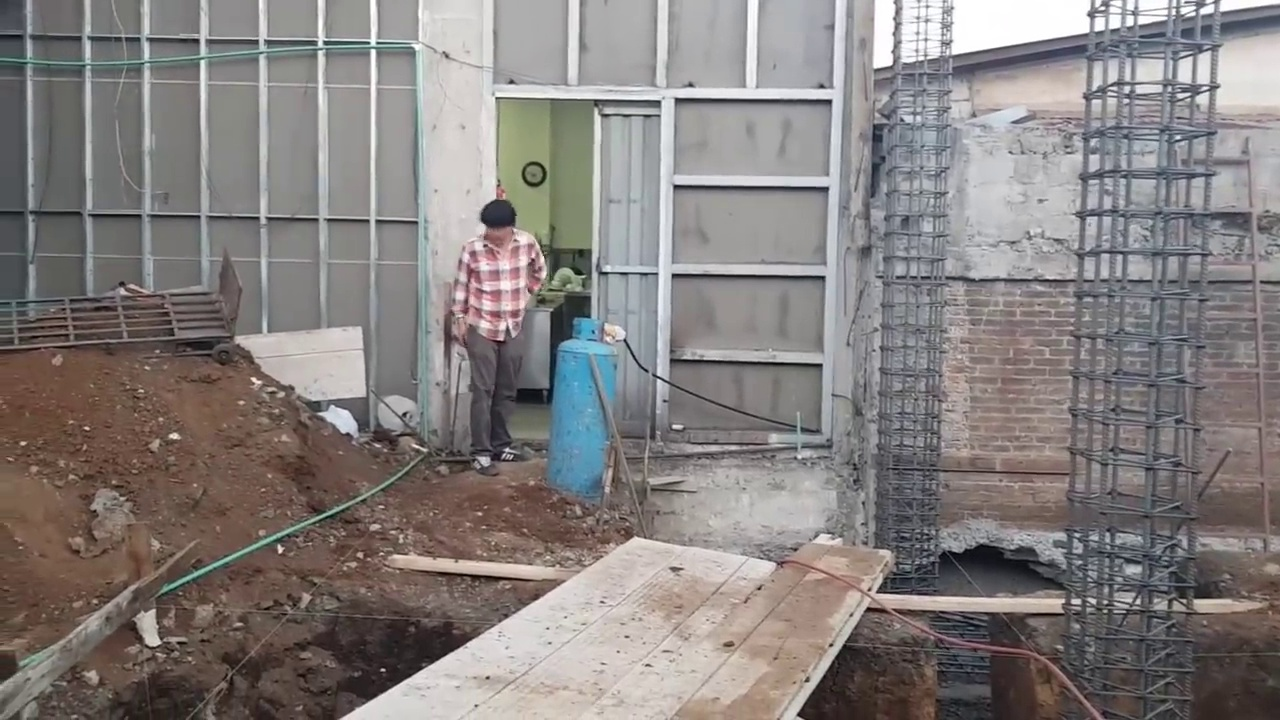helmet-off: (476, 196, 519, 248)
person: (442, 193, 543, 475)
